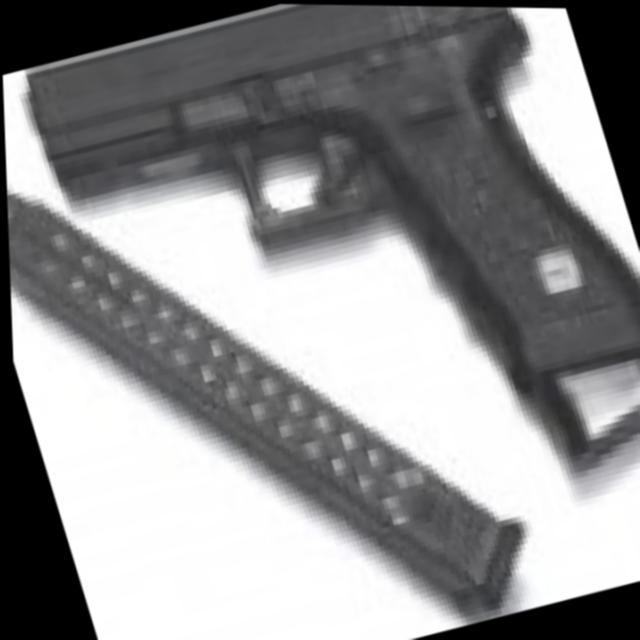weapon: (13, 1, 640, 582), (2, 74, 540, 640)
